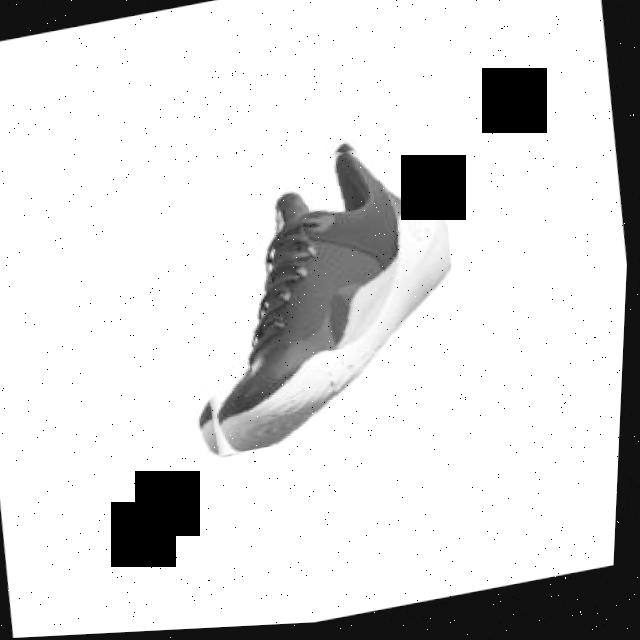shoe: (163, 130, 479, 464)
